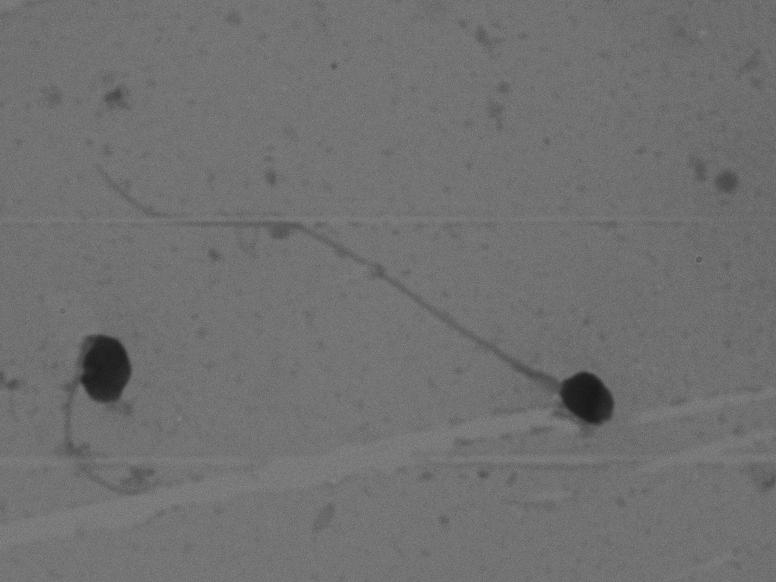Abnormal: (40, 132, 649, 456), (28, 315, 190, 522)
